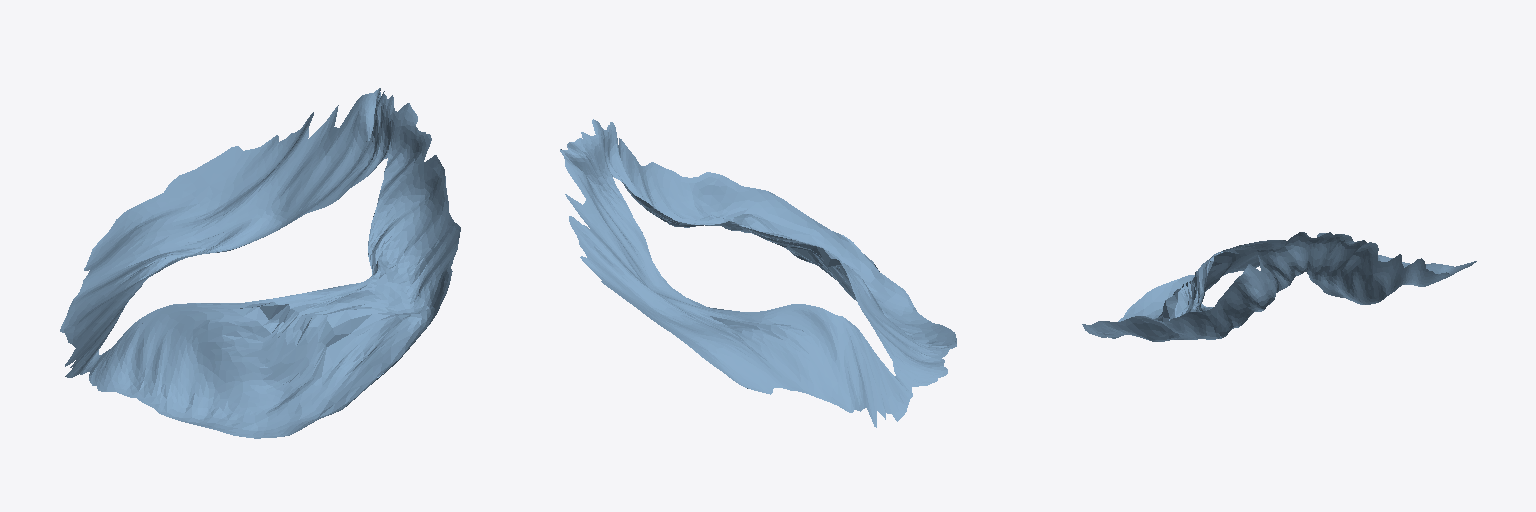
Rendered from Film_L.obj.
3 renders of one model, left to right at view 1: azimuth 30°, elevation 25°; view 2: azimuth 150°, elevation 25°; view 3: azimuth 270°, elevation 25°, orthographic.
Visible parts, largest first — view 1: Film_L; view 2: Film_L; view 3: Film_L.
Boxes of the visible parts, box(x1,y1,x2,y2) form: Film_L: box(60, 88, 460, 438); Film_L: box(560, 119, 956, 427); Film_L: box(1082, 232, 1476, 341).
Size of the model in its own units: 0.0459 by 0.0274 by 0.0468.